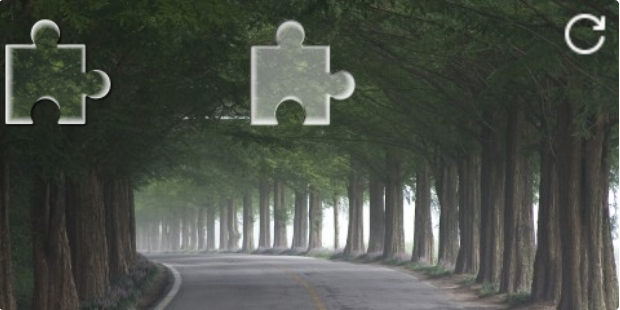target: (251, 20, 355, 125)
